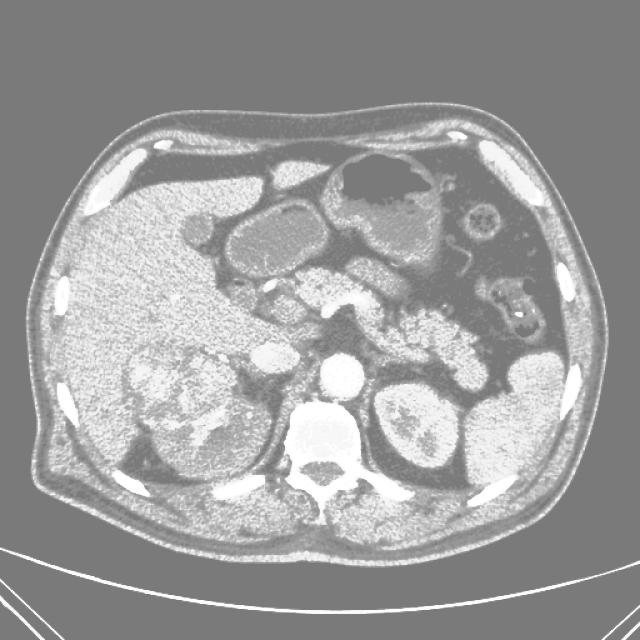TUMOR: (229, 195, 517, 414)
